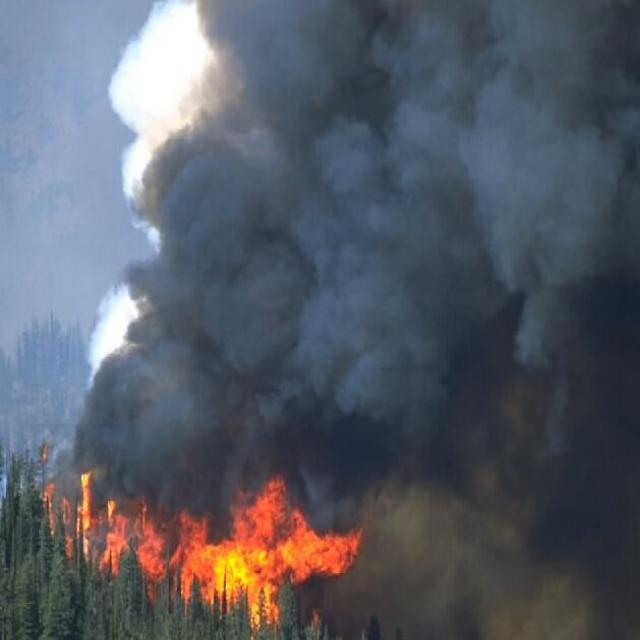Fire: (45, 495, 359, 622)
Smoke: (73, 20, 635, 628)
